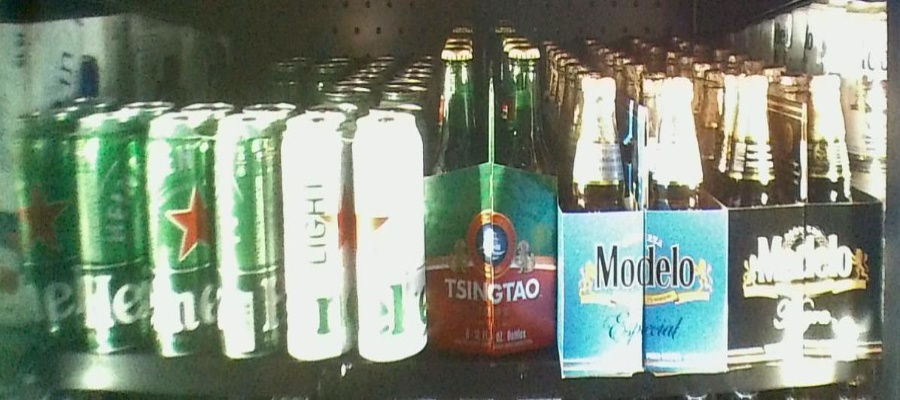bottle: (561, 73, 725, 380), (730, 76, 884, 384), (418, 41, 555, 354), (281, 119, 428, 366), (9, 108, 147, 359), (149, 118, 281, 364)
